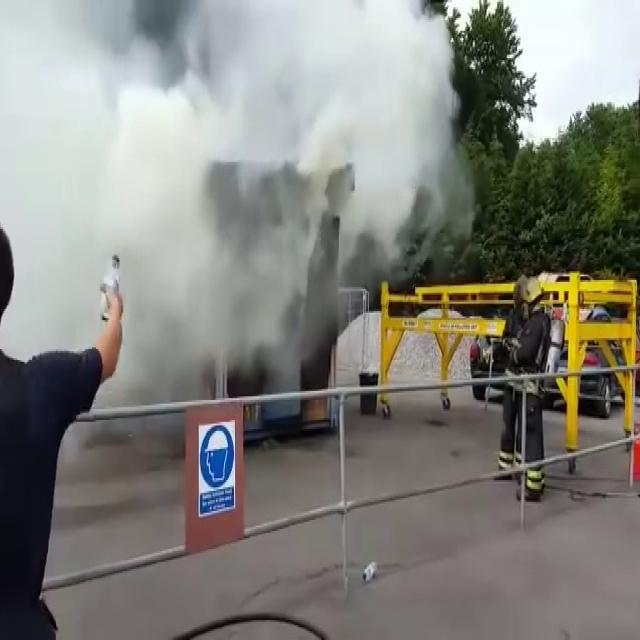Smoke: (41, 34, 410, 387)
